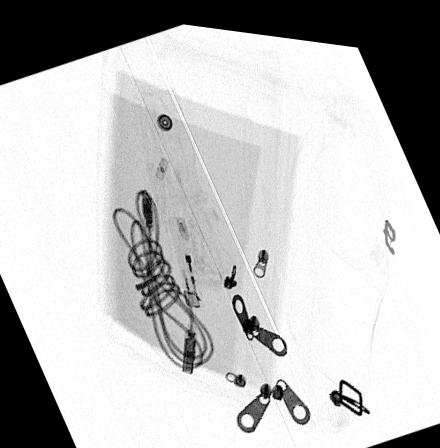Lighter: (167, 210, 205, 301)
